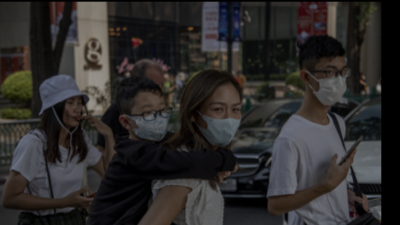with_mask: (194, 99, 241, 146), (128, 99, 170, 140), (309, 63, 348, 105)
without_mask: (63, 96, 83, 127)
